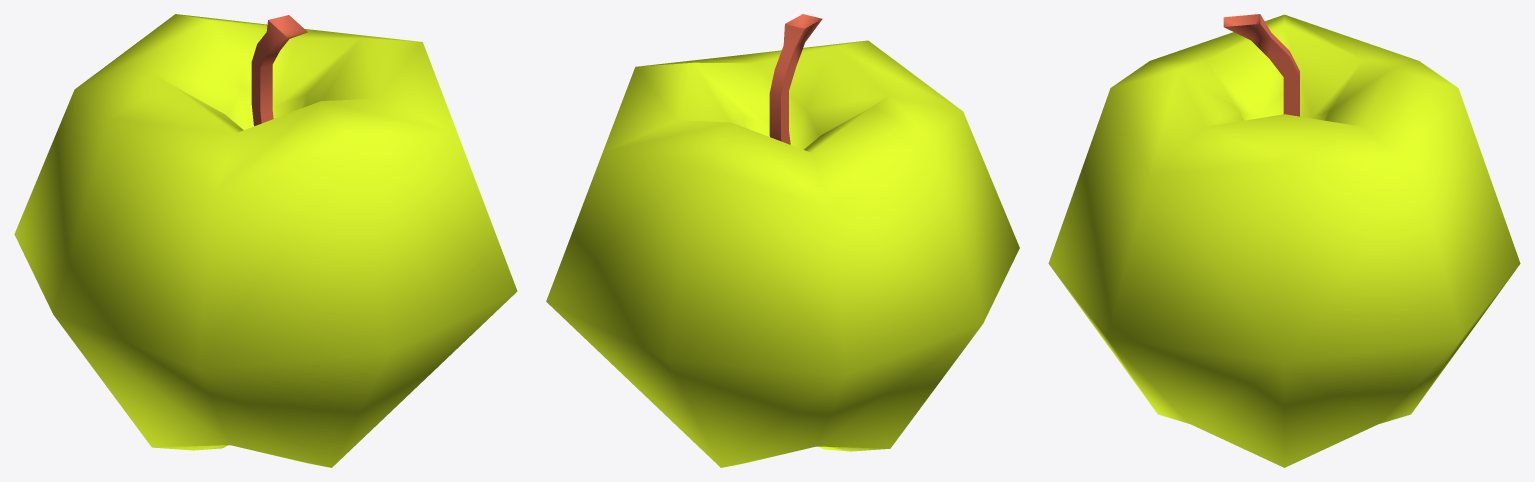
The model's file is yellow_apple.gltf.
3 renders of one model, left to right at view 1: azimuth 30°, elevation 25°; view 2: azimuth 150°, elevation 25°; view 3: azimuth 270°, elevation 25°, orthographic. The views are drawn at different scales.
Visible parts, largest first — view 1: Subdivision_Surface_2, Cube; view 2: Subdivision_Surface_2, Cube; view 3: Subdivision_Surface_2, Cube.
Boxes of the visible parts, x1,y1,x2,y2 form: Subdivision_Surface_2: (14, 14, 517, 467); Cube: (251, 15, 307, 126); Subdivision_Surface_2: (546, 40, 1019, 467); Cube: (769, 14, 822, 144); Subdivision_Surface_2: (1048, 14, 1520, 467); Cube: (1223, 14, 1299, 116).
Bounding box in the file's own units: 2.8 × 2.7 × 2.8.
